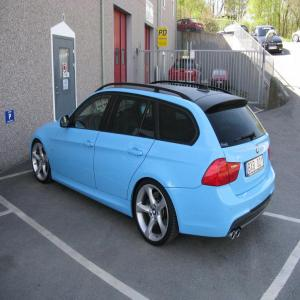Vehicle-registration-plate: (246, 155, 266, 178), (270, 45, 279, 53), (199, 25, 204, 30), (218, 81, 224, 84)
